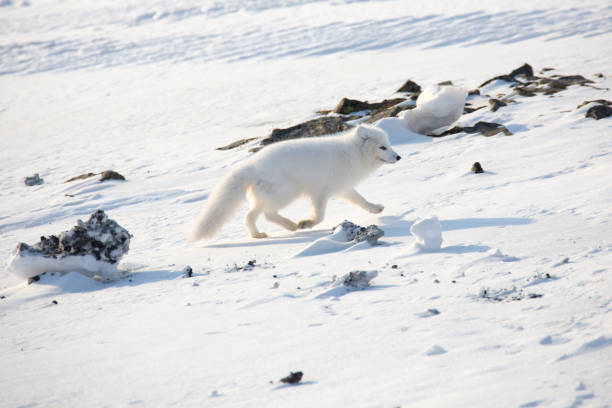arcticfox: (353, 130, 385, 167)
